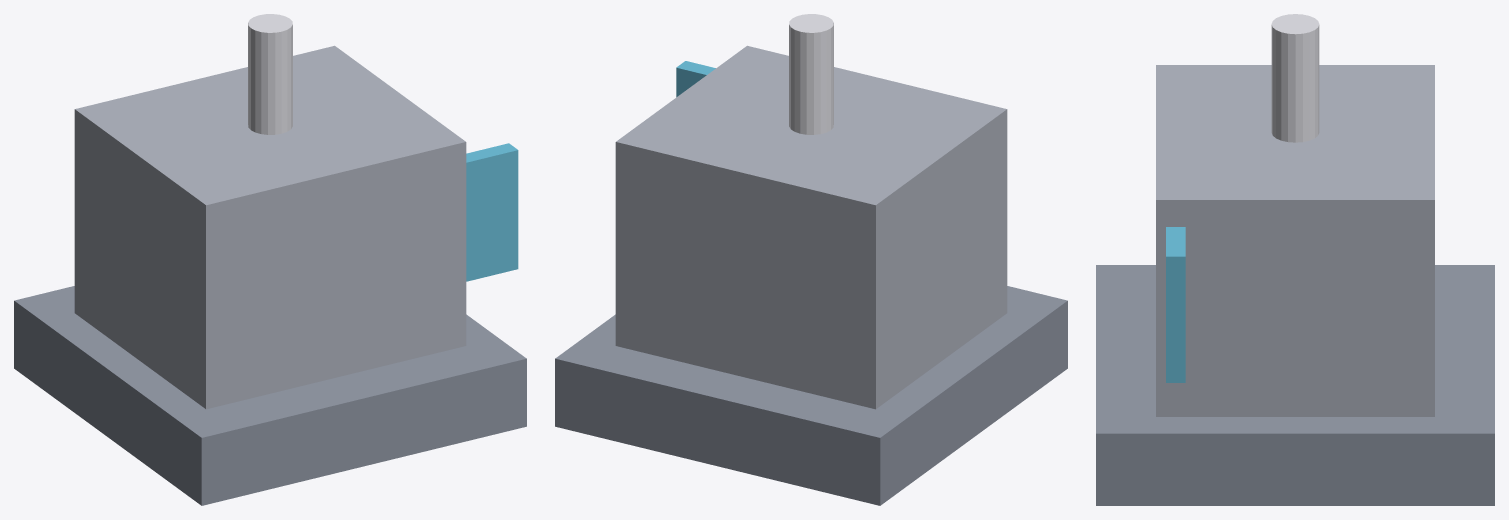
Rendered from machine.glb.
3 views of the same model, side by side, from view 1: azimuth 30°, elevation 25°; view 2: azimuth 150°, elevation 25°; view 3: azimuth 270°, elevation 25° (orthographic). The views are drawn at different scales.
Parts seen in each view (by area): view 1: machine_1, machine_0, machine_2, machine_3; view 2: machine_1, machine_0, machine_3, machine_2; view 3: machine_1, machine_0, machine_3, machine_2.
Boxes of the visible parts, <box> form: machine_1: <box>74,45,466,409</box>; machine_0: <box>14,286,526,505</box>; machine_2: <box>466,143,518,281</box>; machine_3: <box>248,14,292,134</box>; machine_1: <box>615,45,1007,409</box>; machine_0: <box>555,286,1067,505</box>; machine_3: <box>789,14,833,134</box>; machine_2: <box>676,61,715,97</box>; machine_1: <box>1156,65,1434,416</box>; machine_0: <box>1096,265,1494,505</box>; machine_3: <box>1271,14,1319,142</box>; machine_2: <box>1166,227,1185,382</box>.
Bounding box in the file's own units: 2.15 × 2.2 × 2.
